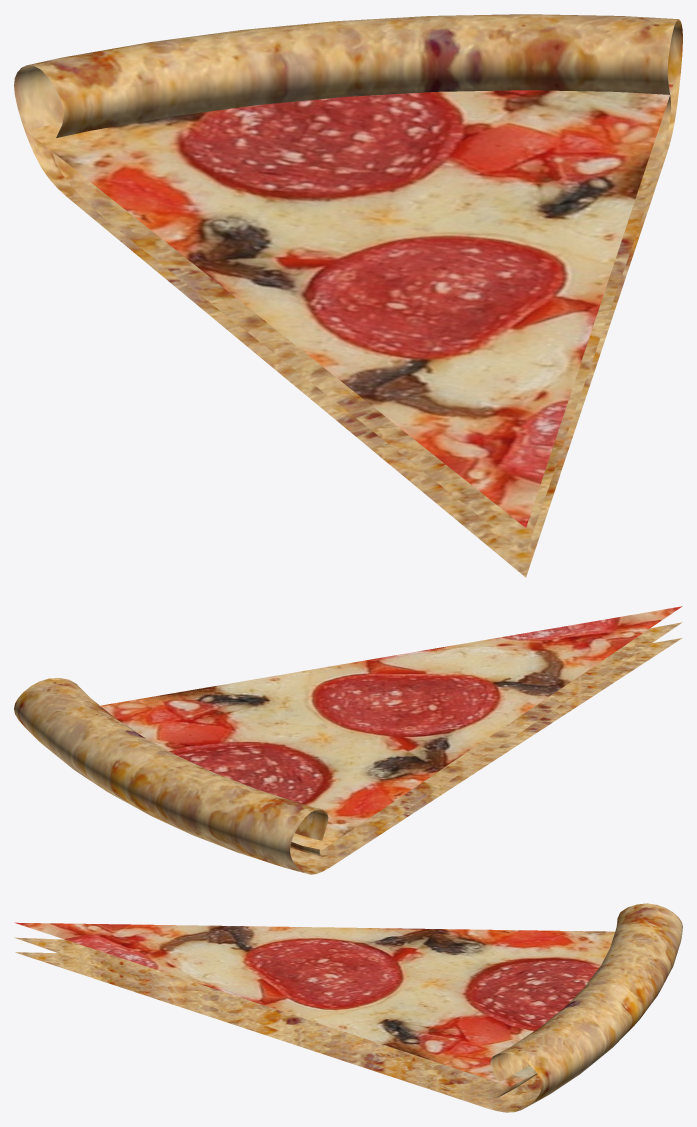
File: Pizza.gltf
The picture shows the model from 3 angles, top to bottom: view 1: azimuth 30°, elevation 25°; view 2: azimuth 150°, elevation 25°; view 3: azimuth 270°, elevation 25°; orthographic projection. The views are drawn at different scales.
Visible parts, largest first — view 1: Pizza; view 2: Pizza; view 3: Pizza.
Part boxes in pixels (<box>): Pizza: <box>14,14,682,577</box>; Pizza: <box>14,606,682,874</box>; Pizza: <box>14,903,682,1112</box>.
Size of the model in its own units: 1.03 by 0.1727 by 1.67.
2 materials, 2 textured.
